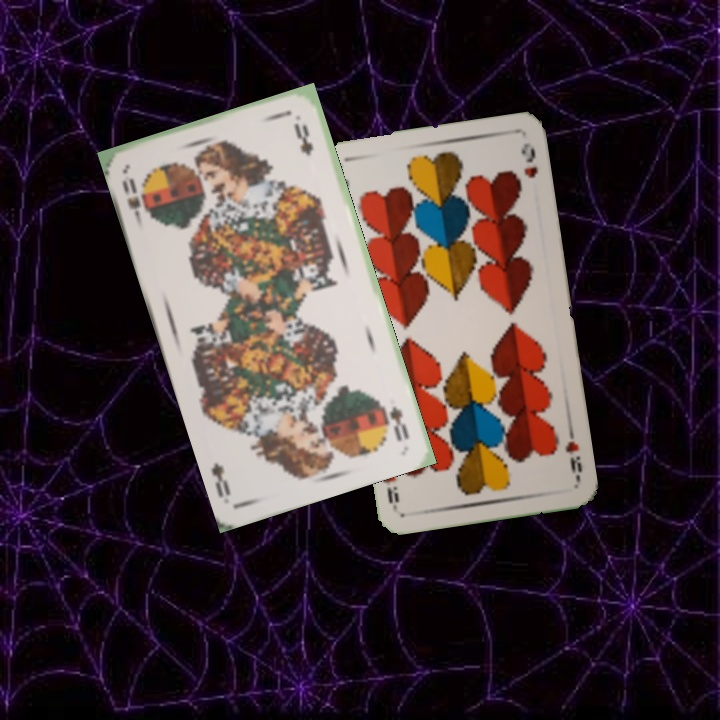H9: (561, 423, 585, 482)
SO: (118, 173, 145, 227), (385, 402, 412, 445)
